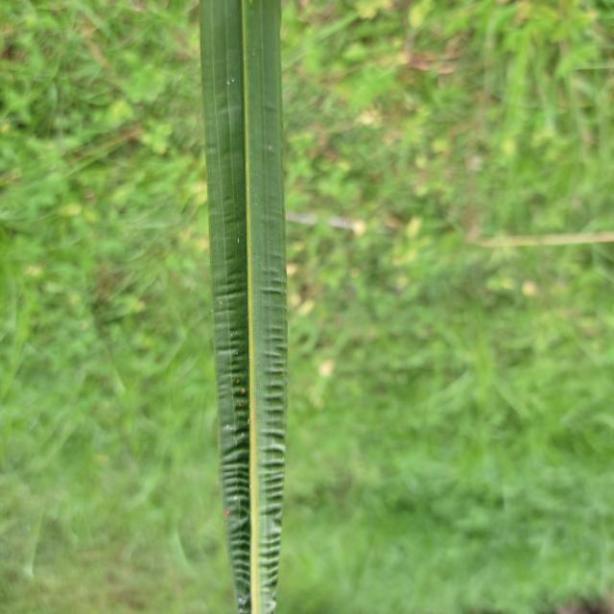Boron: (191, 0, 290, 614)
